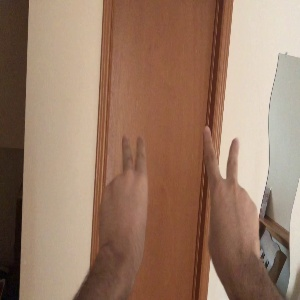hand: (202, 125, 259, 253), (100, 135, 148, 250)
